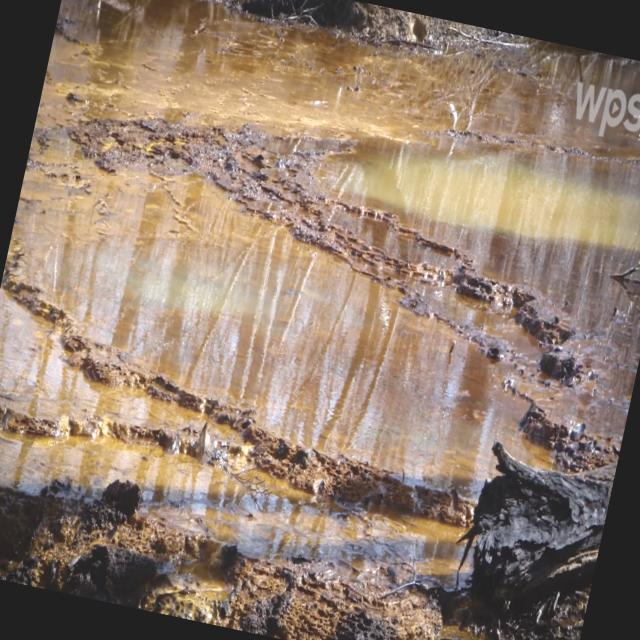yellow_boy: (330, 140, 640, 298), (81, 240, 277, 317)
